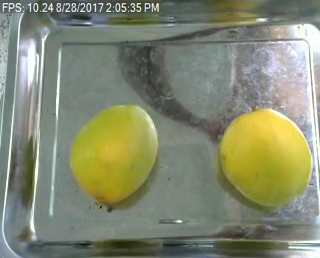Mango: (66, 100, 163, 210), (216, 108, 315, 207)
